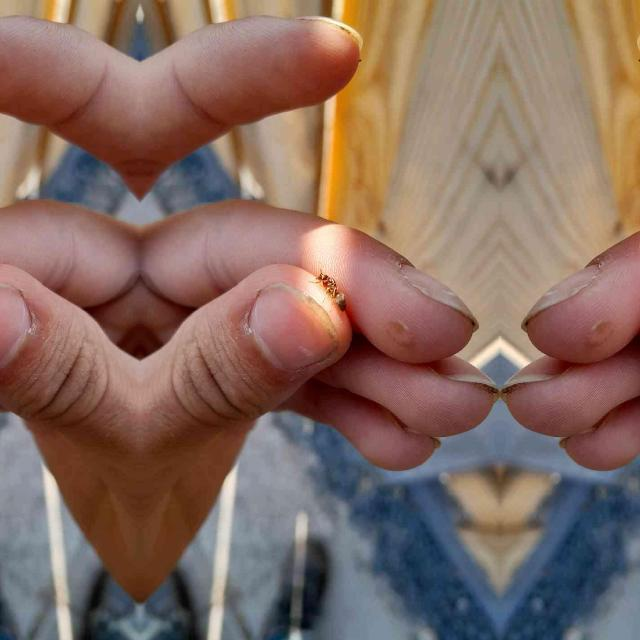Lasius: (305, 264, 349, 314)
